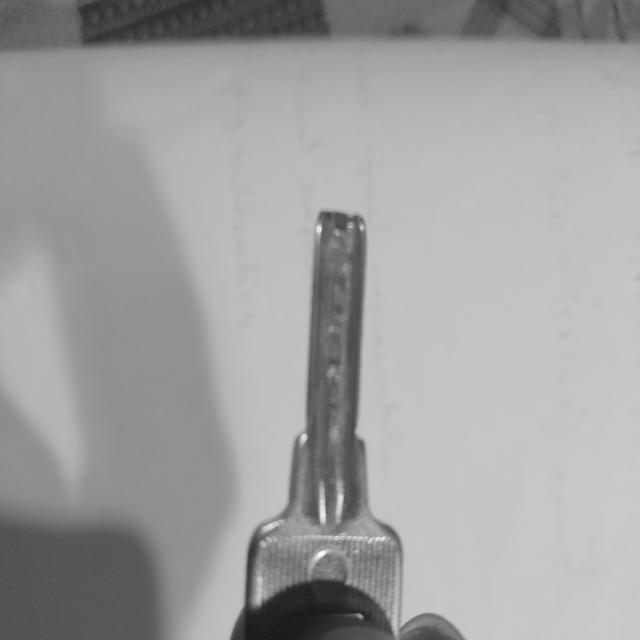KEY: (244, 211, 403, 640)
